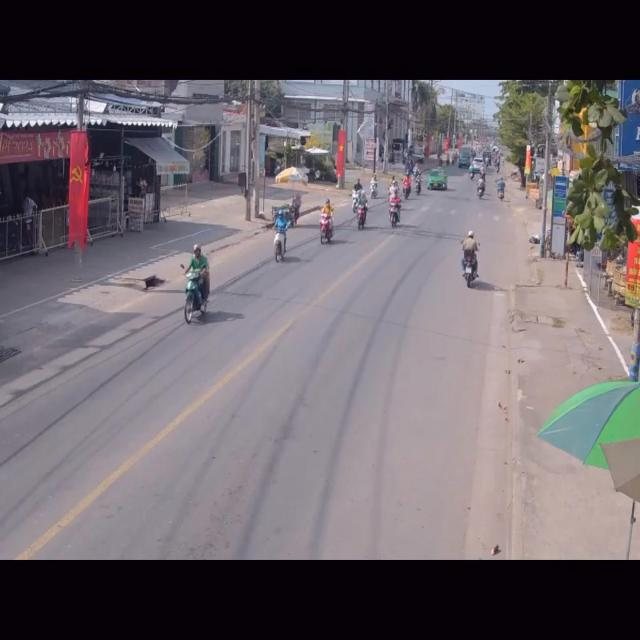motorbike: (185, 245, 214, 328), (460, 229, 479, 289), (273, 212, 290, 267), (318, 199, 335, 247), (389, 189, 402, 229), (356, 198, 368, 232), (401, 176, 412, 204)
